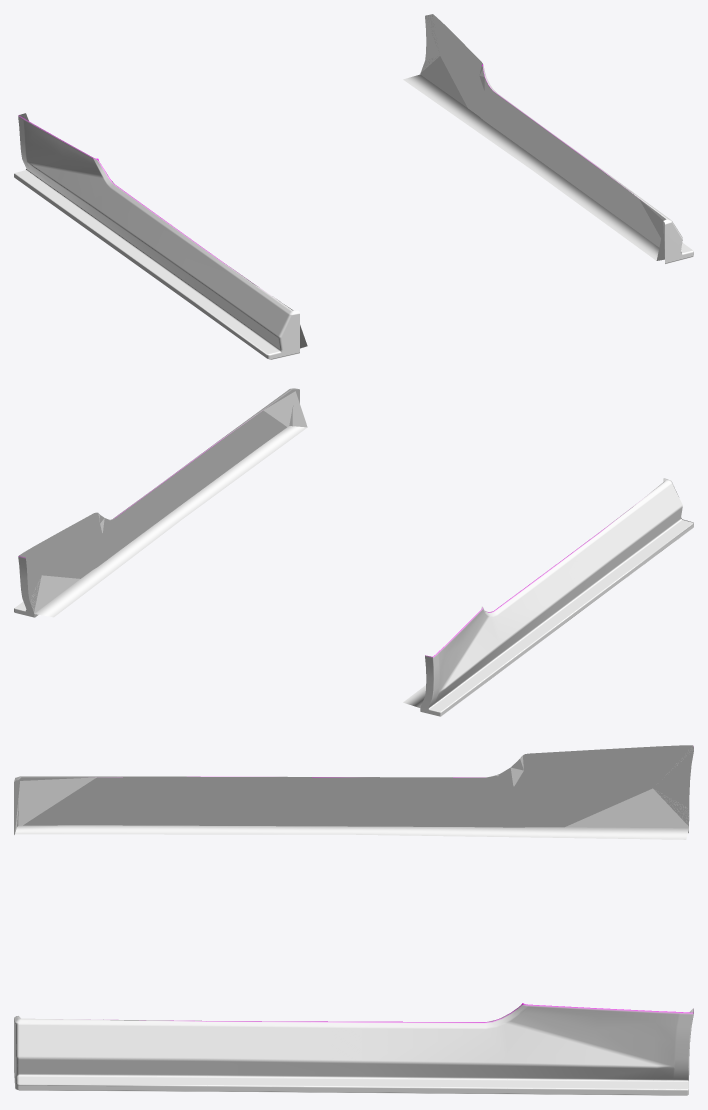
The model's file is Car_Nissan_SkylineGTRVspecR34_1999_Skirts_SetE_AltB.fbx.
3 views of the same model, one above another, from view 1: azimuth 30°, elevation 25°; view 2: azimuth 150°, elevation 25°; view 3: azimuth 270°, elevation 25° (orthographic). The views are drawn at different scales.
Visible parts, largest first — view 1: Skirts 6; view 2: Skirts 6; view 3: Skirts 6.
Part boxes in pixels (x1,y1,x2,y2): Skirts 6: (14,14,693,359); Skirts 6: (14,388,693,716); Skirts 6: (14,745,693,1095).
Bounding box in the file's own units: 1.84 × 0.248 × 1.92.
